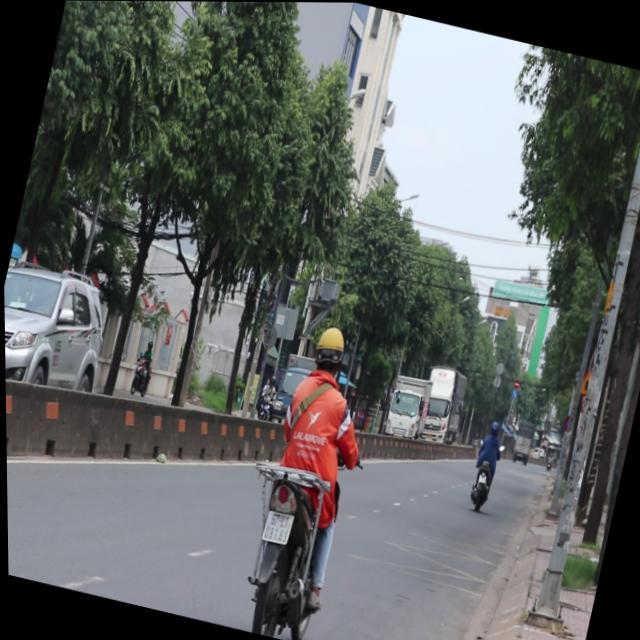helmet: (307, 321, 348, 379)
licenseplate: (214, 312, 386, 640)
nohelmet: (258, 508, 291, 544)
